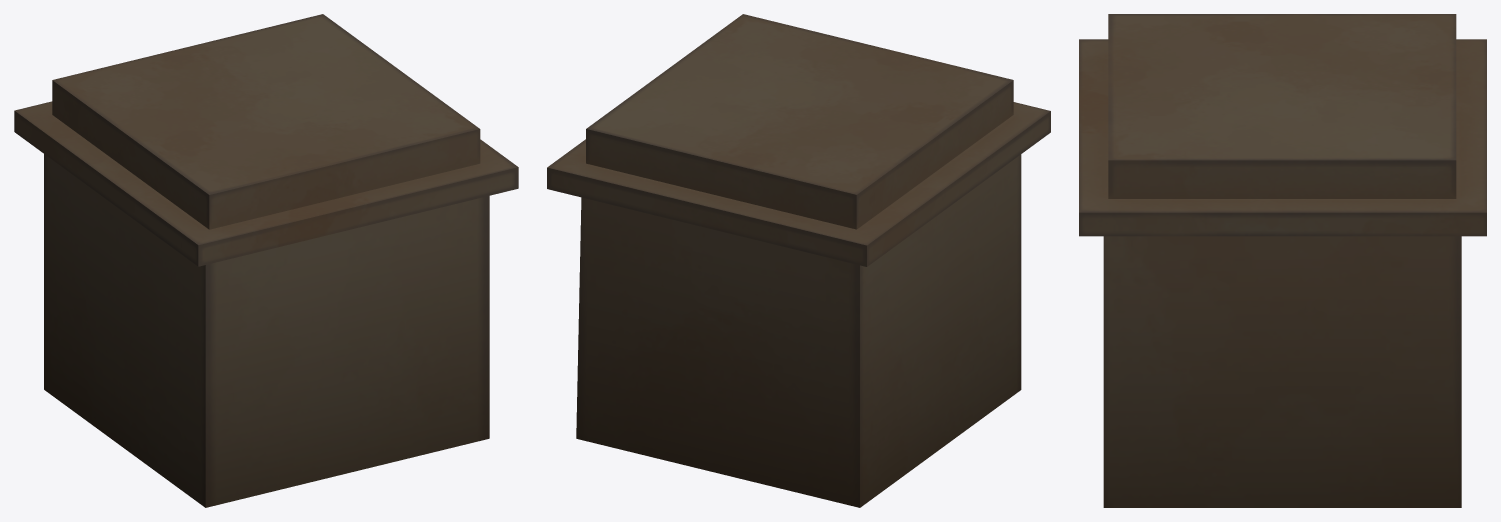
3 renders of one model, left to right at view 1: azimuth 30°, elevation 25°; view 2: azimuth 150°, elevation 25°; view 3: azimuth 270°, elevation 25°, orthographic. The views are drawn at different scales.
Parts seen in each view (by area): view 1: Sola1; view 2: Sola1; view 3: Sola1.
Boxes of the visible parts, x1,y1,x2,y2 form: Sola1: [14, 14, 518, 507]; Sola1: [547, 14, 1050, 507]; Sola1: [1079, 14, 1486, 507].
Bounding box in the file's own units: 0.3153 × 0.2918 × 0.3139.
